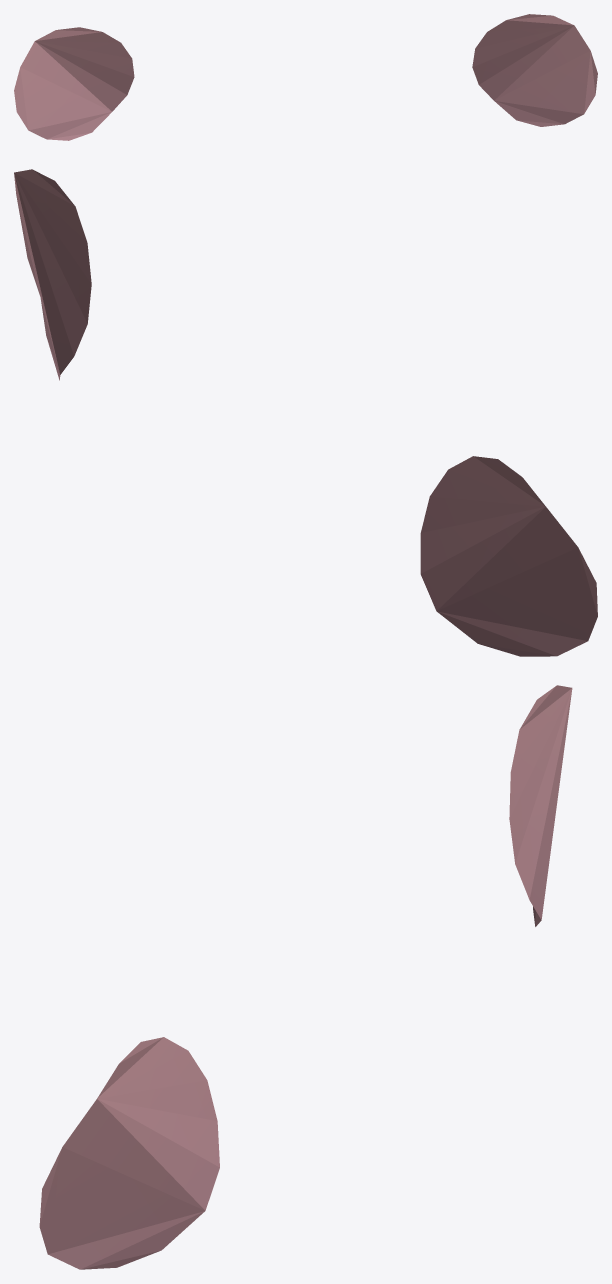
File: ROSY CHEEKS.fbx
3 views of the same model, one above another, from view 1: azimuth 30°, elevation 25°; view 2: azimuth 150°, elevation 25°; view 3: azimuth 270°, elevation 25° (orthographic). The views are drawn at different scales.
Visible parts, largest first — view 1: ROSY_CHEEKS; view 2: ROSY_CHEEKS; view 3: ROSY_CHEEKS.
Boxes of the visible parts, left/top/right/bottom form: ROSY_CHEEKS: left=14, top=14, right=597, bottom=140; ROSY_CHEEKS: left=14, top=169, right=597, bottom=656; ROSY_CHEEKS: left=39, top=685, right=572, bottom=1269.
Size of the model in its own units: 15.48 by 3.58 by 7.84.
